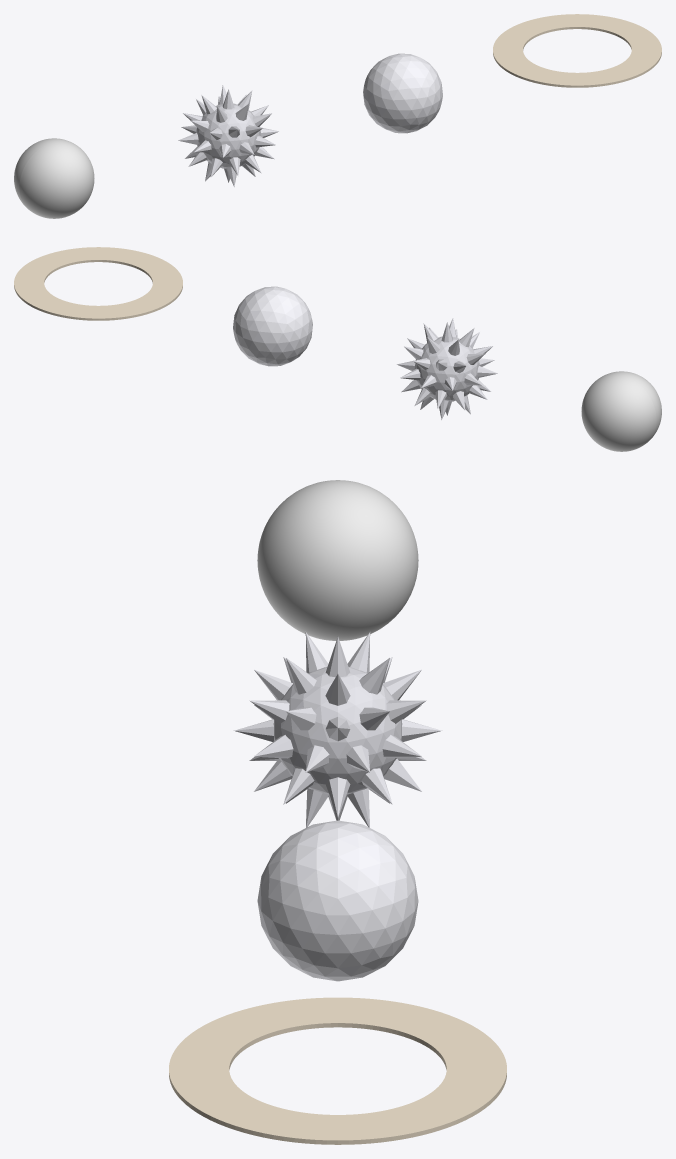
The model's file is BallSkinMeshes.fbx.
3 views of the same model, one above another, from view 1: azimuth 30°, elevation 25°; view 2: azimuth 150°, elevation 25°; view 3: azimuth 270°, elevation 25° (orthographic). The views are drawn at different scales.
Parts seen in each view (by area): view 1: BallRing, BallSpiky, BallSphere, BallDisco; view 2: BallRing, BallSpiky, BallSphere, BallDisco; view 3: BallRing, BallSpiky, BallSphere, BallDisco.
Boxes of the visible parts, x1=… form: BallRing: x1=493, y1=14, x2=661, y2=87; BallSpiky: x1=178, y1=85, x2=279, y2=186; BallSphere: x1=14, y1=138, x2=94, y2=218; BallDisco: x1=363, y1=53, x2=442, y2=133; BallRing: x1=14, y1=247, x2=182, y2=320; BallSpiky: x1=396, y1=318, x2=497, y2=419; BallSphere: x1=581, y1=371, x2=661, y2=451; BallDisco: x1=233, y1=286, x2=312, y2=366; BallRing: x1=169, y1=997, x2=506, y2=1144; BallSpiky: x1=234, y1=632, x2=441, y2=827; BallSphere: x1=257, y1=480, x2=418, y2=640; BallDisco: x1=257, y1=820, x2=418, y2=981.
Bounding box in the file's own units: 18.1 × 2.59 × 4.2.
